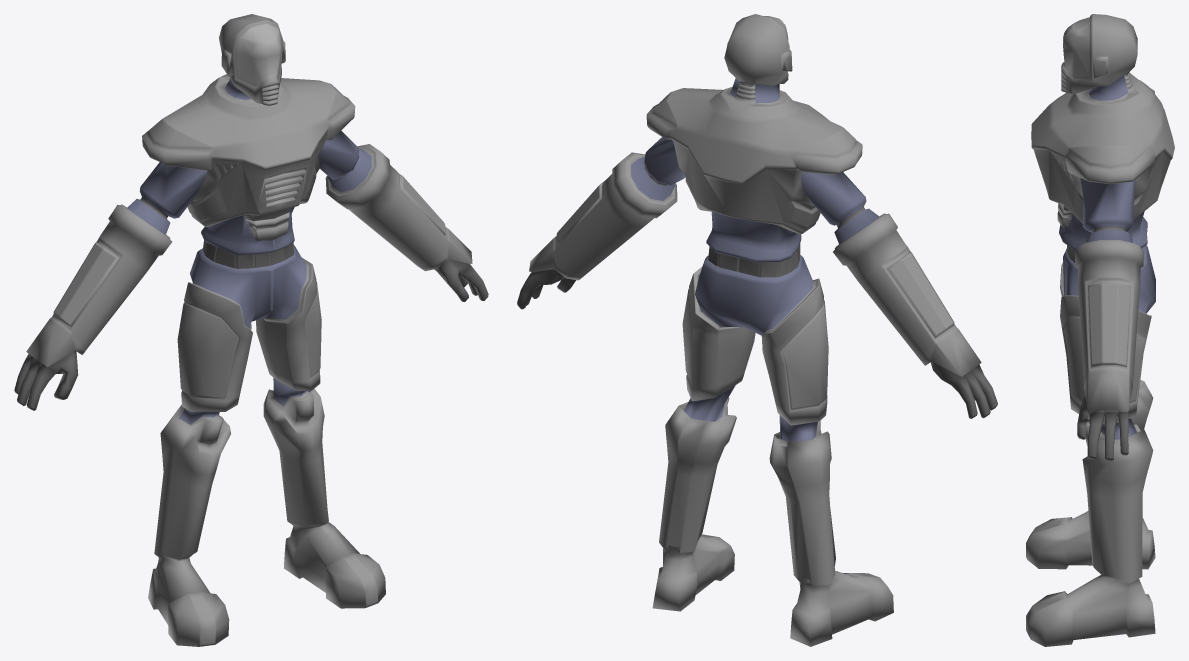
File: SmallEnemy_high.fbx
3 renders of one model, left to right at view 1: azimuth 30°, elevation 25°; view 2: azimuth 150°, elevation 25°; view 3: azimuth 270°, elevation 25°, orthographic.
Parts seen in each view (by area): view 1: SmallEnemy_high; view 2: SmallEnemy_high; view 3: SmallEnemy_high.
Part boxes in pixels (<box>): SmallEnemy_high: <box>14,14,488,646</box>; SmallEnemy_high: <box>517,14,997,646</box>; SmallEnemy_high: <box>1026,14,1174,646</box>.
Size of the model in its own units: 157 by 189 by 44.03.
